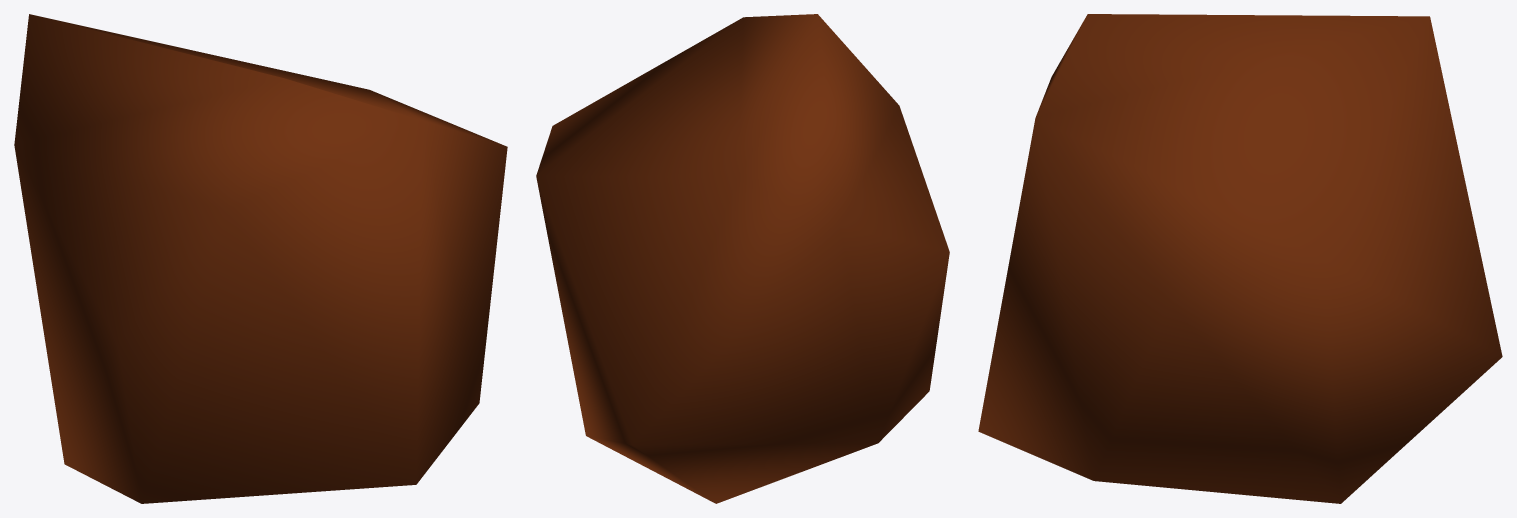
File: FM_M_Well_Stone_10.fbx
The picture shows the model from 3 angles, left to right: view 1: azimuth 30°, elevation 25°; view 2: azimuth 150°, elevation 25°; view 3: azimuth 270°, elevation 25°; orthographic projection. The views are drawn at different scales.
Parts seen in each view (by area): view 1: FM_M_Well_Stone_10; view 2: FM_M_Well_Stone_10; view 3: FM_M_Well_Stone_10.
Part boxes in pixels (box(x1,y1,x2,y2)): FM_M_Well_Stone_10: box(14, 14, 507, 503); FM_M_Well_Stone_10: box(536, 14, 949, 503); FM_M_Well_Stone_10: box(978, 14, 1502, 503).
Bounding box in the file's own units: 0.3052 × 0.3109 × 0.3305.
